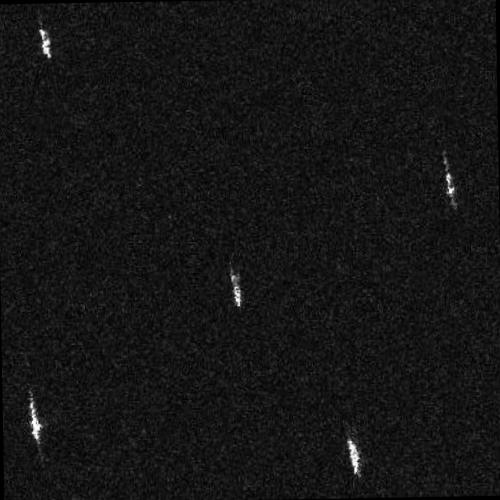ship: (29, 393, 44, 446), (345, 435, 361, 477), (444, 153, 457, 203), (230, 270, 244, 310), (37, 27, 53, 60)
